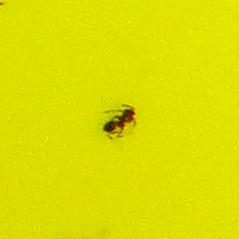Hymenoptera: (100, 100, 139, 139)
